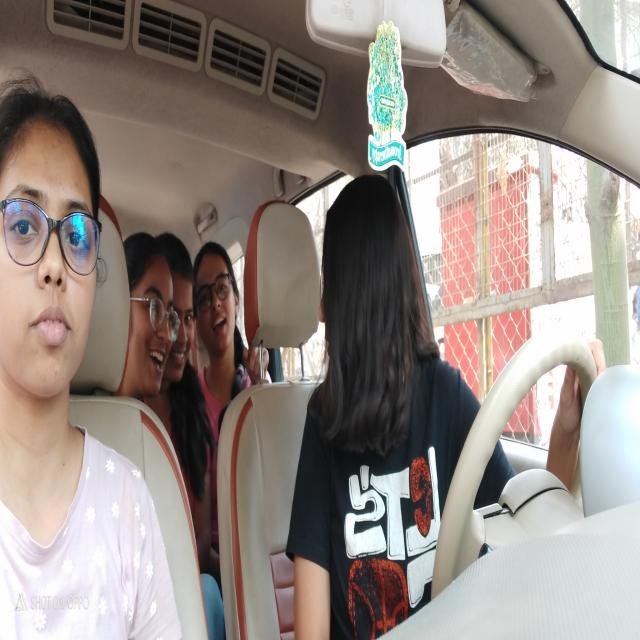LeftRight: (313, 166, 430, 394)
person: (0, 77, 108, 401), (124, 231, 174, 404), (198, 244, 242, 362), (171, 237, 195, 396)
